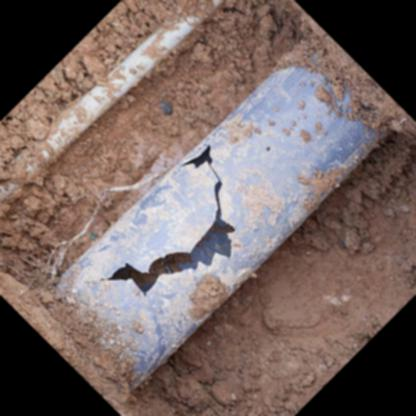burst: (111, 146, 235, 297)
